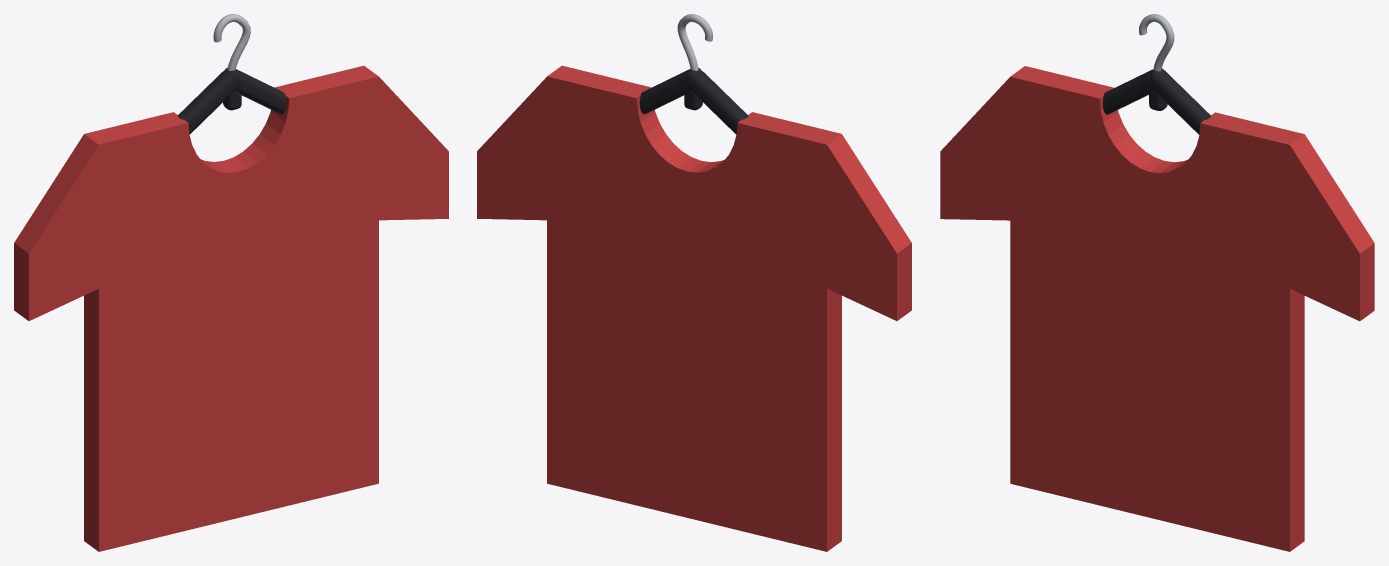
Rendered from TShirt_Hanger 1.fbx.
3 views of the same model, side by side, from view 1: azimuth 30°, elevation 25°; view 2: azimuth 150°, elevation 25°; view 3: azimuth 330°, elevation 25° (orthographic).
Parts seen in each view (by area): view 1: Tshirt, HangerLeftArm, HangerRightArm, HangerHook; view 2: Tshirt, HangerLeftArm, HangerRightArm, HangerHook; view 3: Tshirt, HangerRightArm, HangerLeftArm, HangerHook.
Part boxes in pixels (box(x1,y1,x2,y2)): Tshirt: box(14, 65, 448, 551); HangerLeftArm: box(178, 70, 236, 134); HangerRightArm: box(224, 67, 286, 114); HangerHook: box(213, 14, 250, 70); Tshirt: box(477, 65, 911, 551); HangerLeftArm: box(689, 70, 747, 134); HangerRightArm: box(639, 68, 701, 114); HangerHook: box(677, 14, 713, 70); Tshirt: box(940, 66, 1374, 551); HangerRightArm: box(1150, 68, 1210, 134); HangerLeftArm: box(1103, 69, 1153, 114); HangerHook: box(1139, 14, 1174, 71).
Size of the model in its own units: 327 by 371 by 20.
